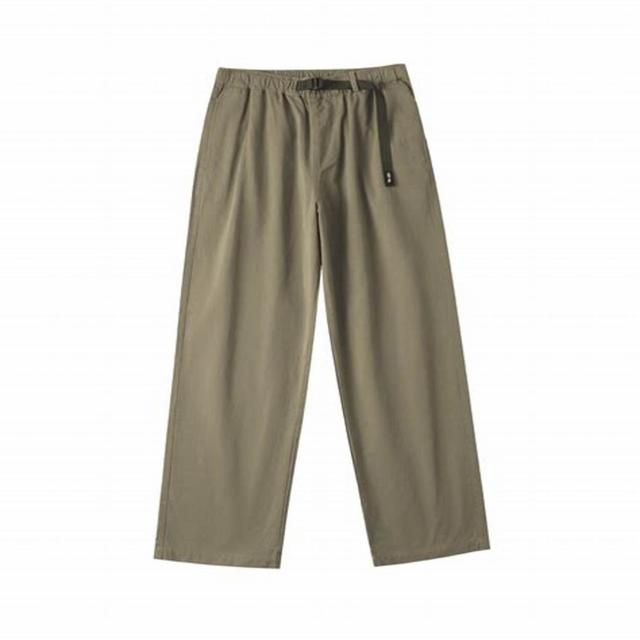long-pants: (154, 64, 491, 570)
